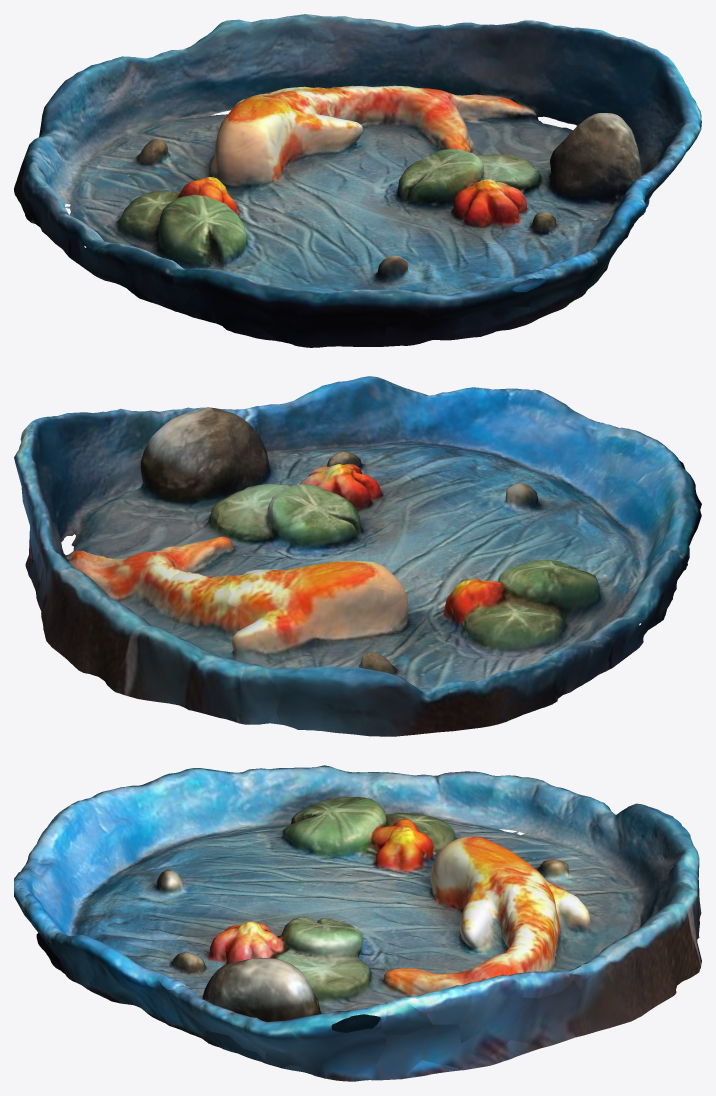
The model's file is Fish.glb.
The picture shows the model from 3 angles, top to bottom: view 1: azimuth 30°, elevation 25°; view 2: azimuth 150°, elevation 25°; view 3: azimuth 270°, elevation 25°; orthographic projection. The views are drawn at different scales.
Parts seen in each view (by area): view 1: Fish; view 2: Fish; view 3: Fish.
Boxes of the visible parts, box(x1,y1,x2,y2) form: Fish: box(14, 14, 701, 347); Fish: box(14, 376, 701, 736); Fish: box(14, 765, 701, 1081).
Bounding box in the file's own units: 1.98 × 0.2766 × 2.
Materials: 1 (1 with a texture image).
